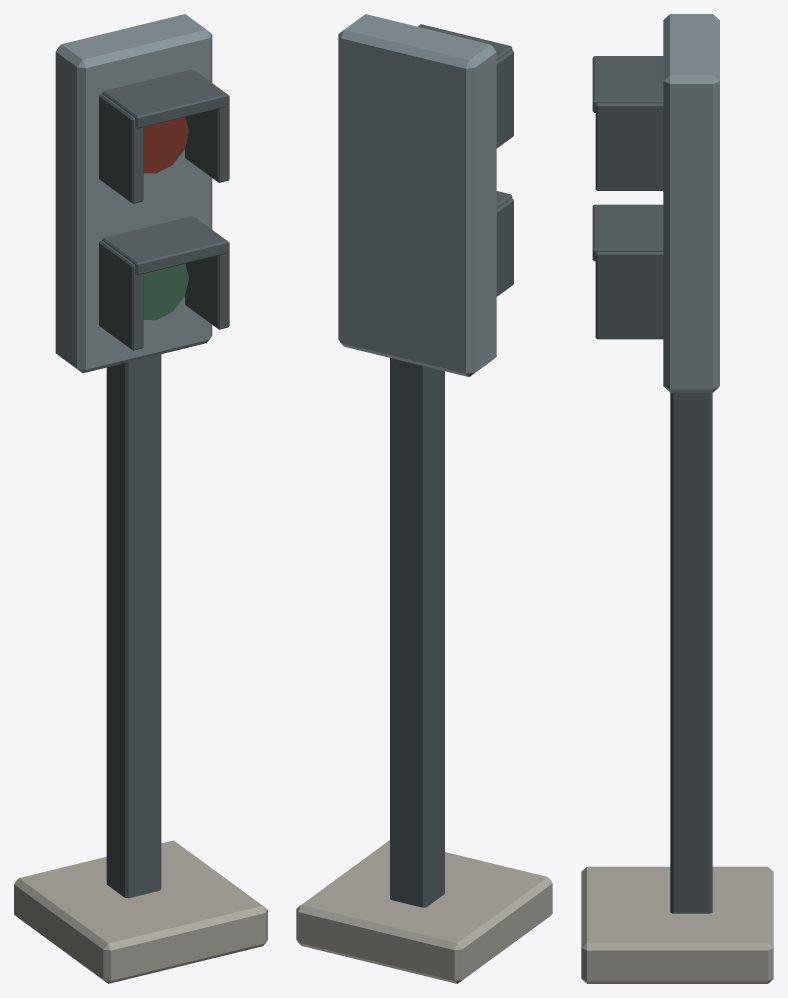
The picture shows the model from 3 angles, left to right: view 1: azimuth 30°, elevation 25°; view 2: azimuth 150°, elevation 25°; view 3: azimuth 270°, elevation 25°; orthographic projection.
Parts seen in each view (by area): view 1: Signal head back shell, Fixed signal mast, Grounded signal plinth, Lens sun hood roof, Lens sun hood roof.001, Lens hood side.002, Lens hood side, Lens hood side.003, Lens hood side.001, Fixed unlit lens.001, Fixed unlit lens; view 2: Signal head back shell, Fixed signal mast, Grounded signal plinth, Lens hood side.002, Lens hood side; view 3: Fixed signal mast, Signal head back shell, Grounded signal plinth, Lens hood side.001, Lens hood side.003, Lens sun hood roof, Lens sun hood roof.001.
Part boxes in pixels (left/top/right/bottom): Signal head back shell: left=55, top=14, right=212, bottom=373; Fixed signal mast: left=106, top=354, right=161, bottom=898; Grounded signal plinth: left=14, top=840, right=267, bottom=983; Lens sun hood roof: left=102, top=216, right=227, bottom=275; Lens sun hood roof.001: left=102, top=69, right=227, bottom=128; Lens hood side.002: left=99, top=94, right=143, bottom=203; Lens hood side: left=99, top=240, right=143, bottom=350; Lens hood side.003: left=185, top=71, right=229, bottom=182; Lens hood side.001: left=185, top=217, right=229, bottom=329; Fixed unlit lens.001: left=143, top=117, right=188, bottom=173; Fixed unlit lens: left=143, top=264, right=188, bottom=320; Signal head back shell: left=338, top=14, right=496, bottom=376; Fixed signal mast: left=390, top=358, right=444, bottom=907; Grounded signal plinth: left=296, top=840, right=552, bottom=983; Lens hood side.002: left=496, top=50, right=513, bottom=148; Lens hood side: left=496, top=198, right=513, bottom=296; Fixed signal mast: left=670, top=392, right=712, bottom=913; Signal head back shell: left=663, top=14, right=719, bottom=392; Grounded signal plinth: left=581, top=866, right=773, bottom=983; Lens hood side.001: left=595, top=251, right=663, bottom=339; Lens hood side.003: left=595, top=103, right=663, bottom=190; Lens sun hood roof: left=592, top=204, right=663, bottom=261; Lens sun hood roof.001: left=592, top=56, right=663, bottom=112.
Size of the model in its own units: 0.34 by 1.76 by 0.34.
